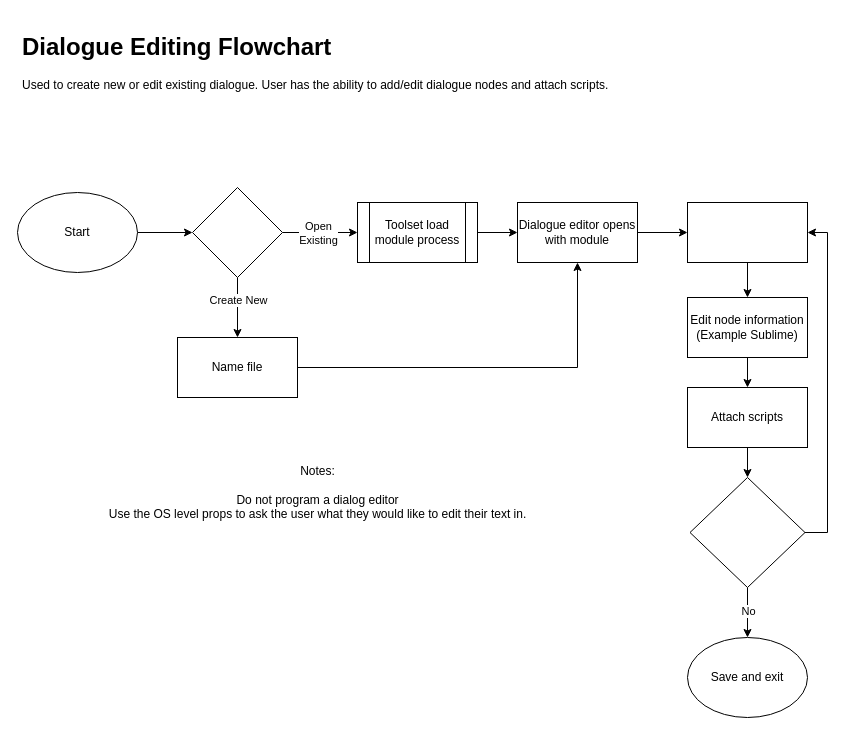
Image size: 865x735. Some labels were removed from this diagram. Each missing label, with the centre of its shape:
Add node: [747,232]
More nodes to be added?: [747,532]
Open existing or create new: [237,232]
